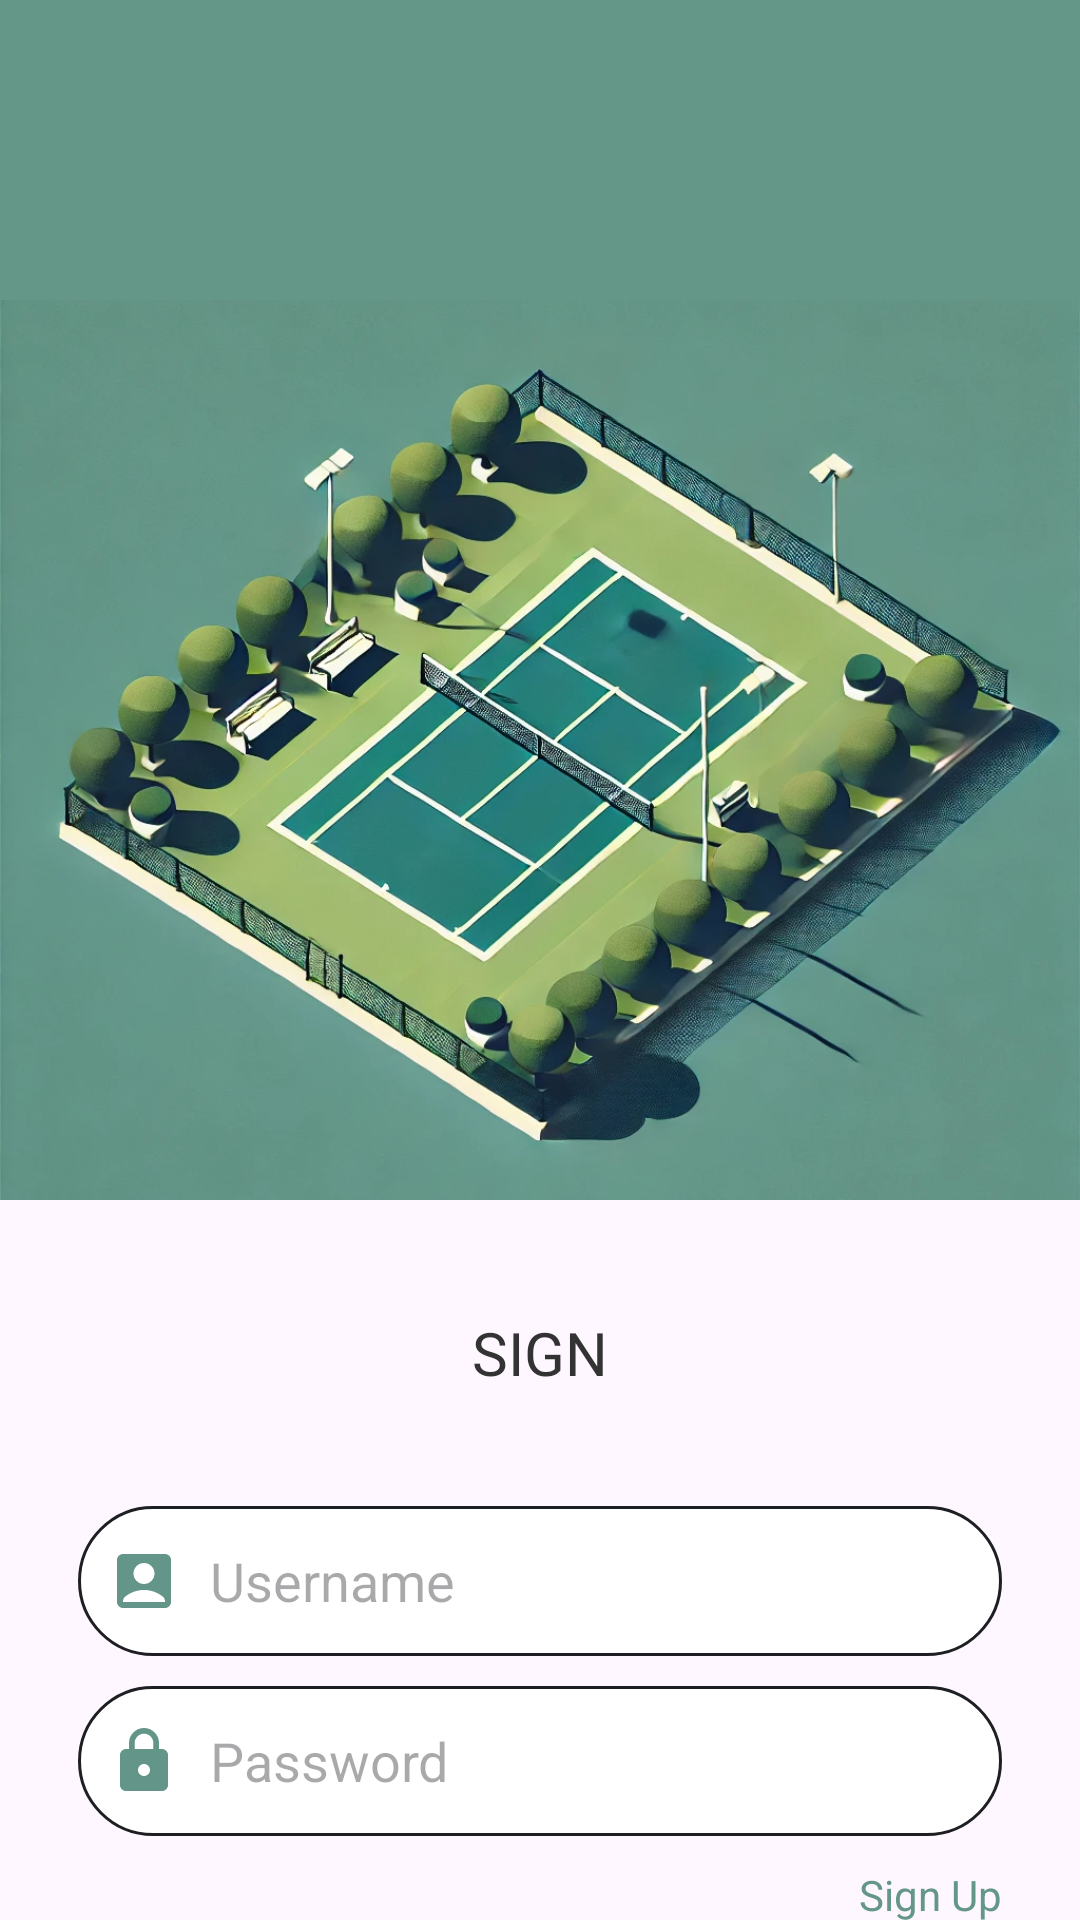

Screen size 1080*1920. Icon name, then its center in pixels as [x,y]:
account box: [144,1581]
lock: [144,1759]
